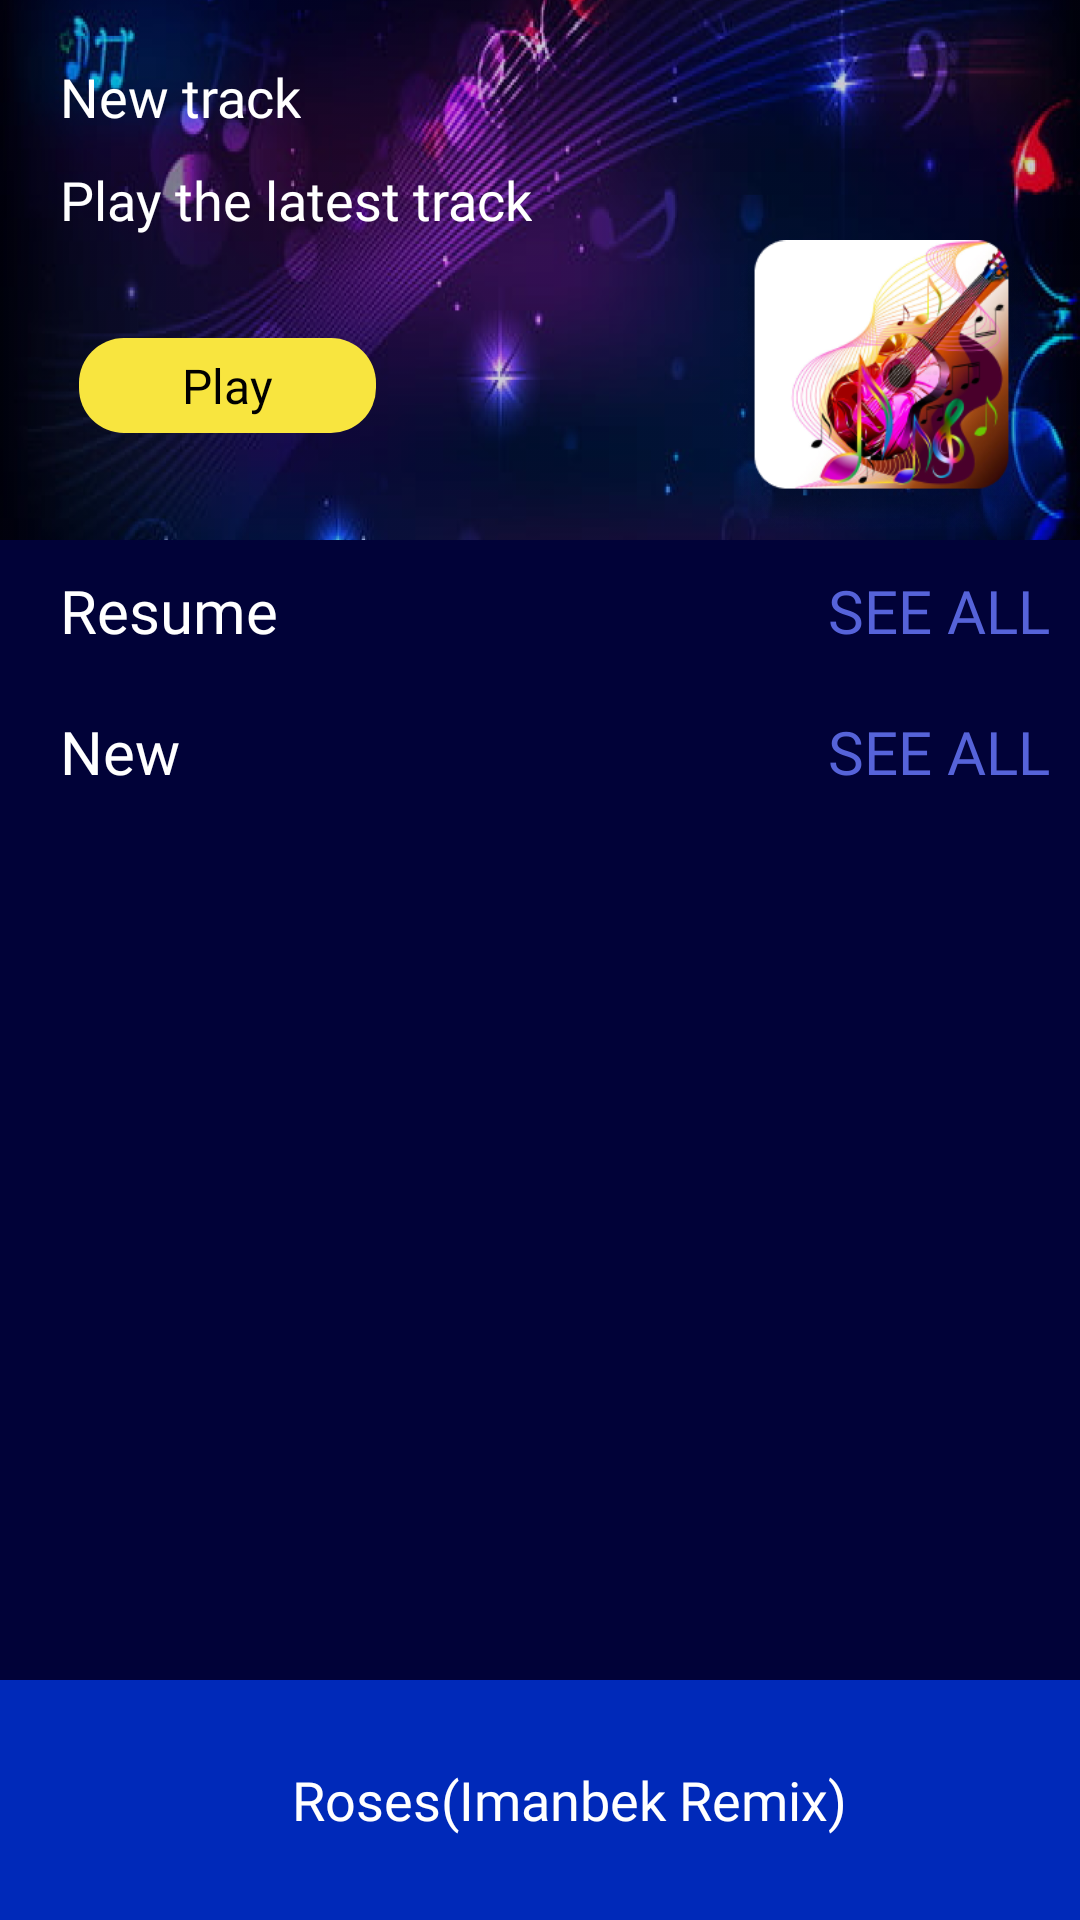

Named icons in this screenshot (1080w x 1920h) and their centers, (x,y):
musicimage: (884,386)
